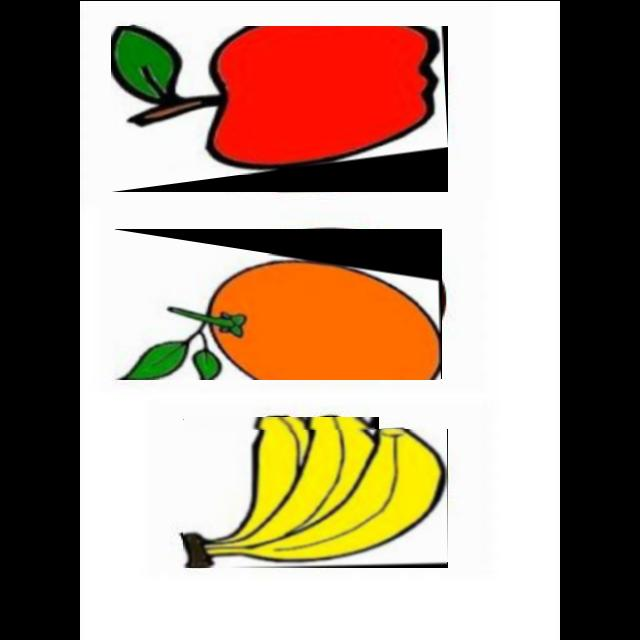Apple: (111, 25, 444, 174)
Banana: (184, 429, 447, 566), (185, 416, 375, 550), (183, 427, 311, 548)
Orange: (115, 253, 441, 378)
